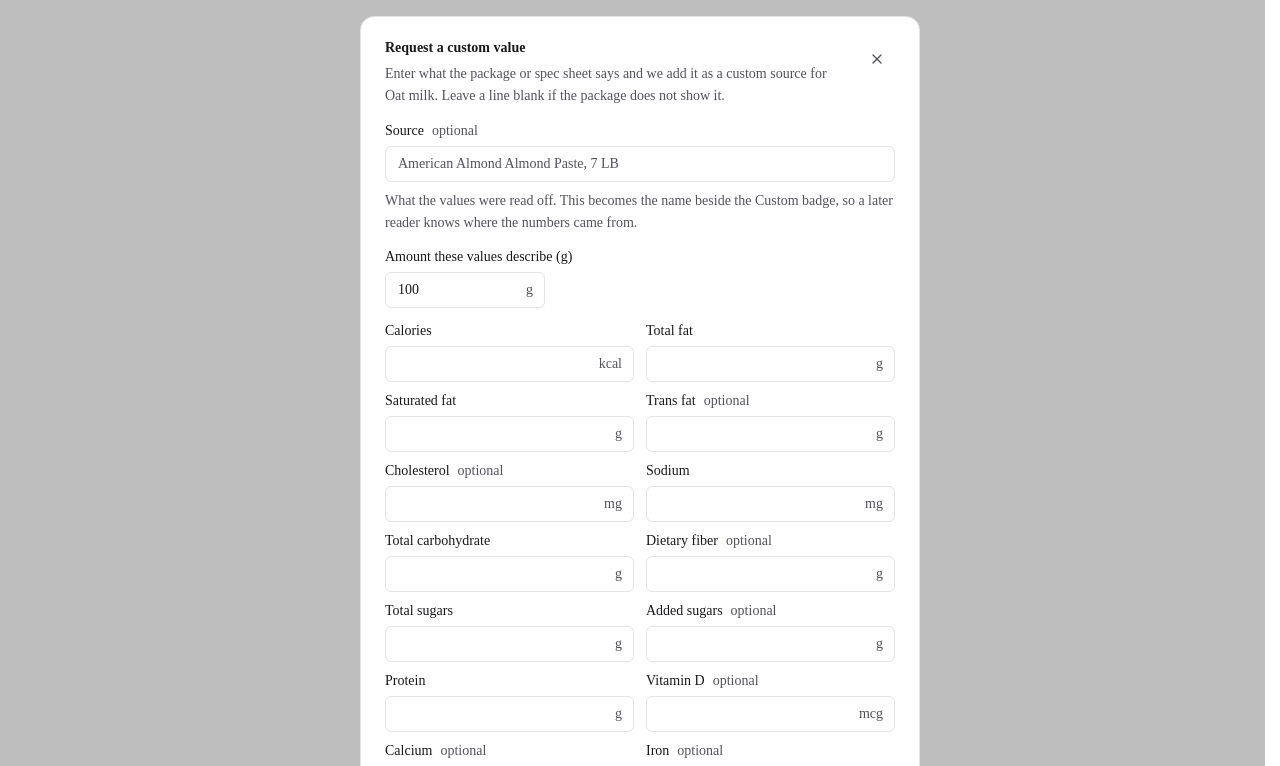
Test: the custom nutrition request dialog › stays open and says why when the request did not land
This screenshot has width=1280, height=766.
Type "120" into the number field labelled "Calories" at (510, 364), box [385,346,634,382]
Type "3" into the number field labelled "Total fat" at (770, 364), box [646,346,895,382]
Type "1" into the number field labelled "Saturated fat" at (510, 434), box [385,416,634,452]
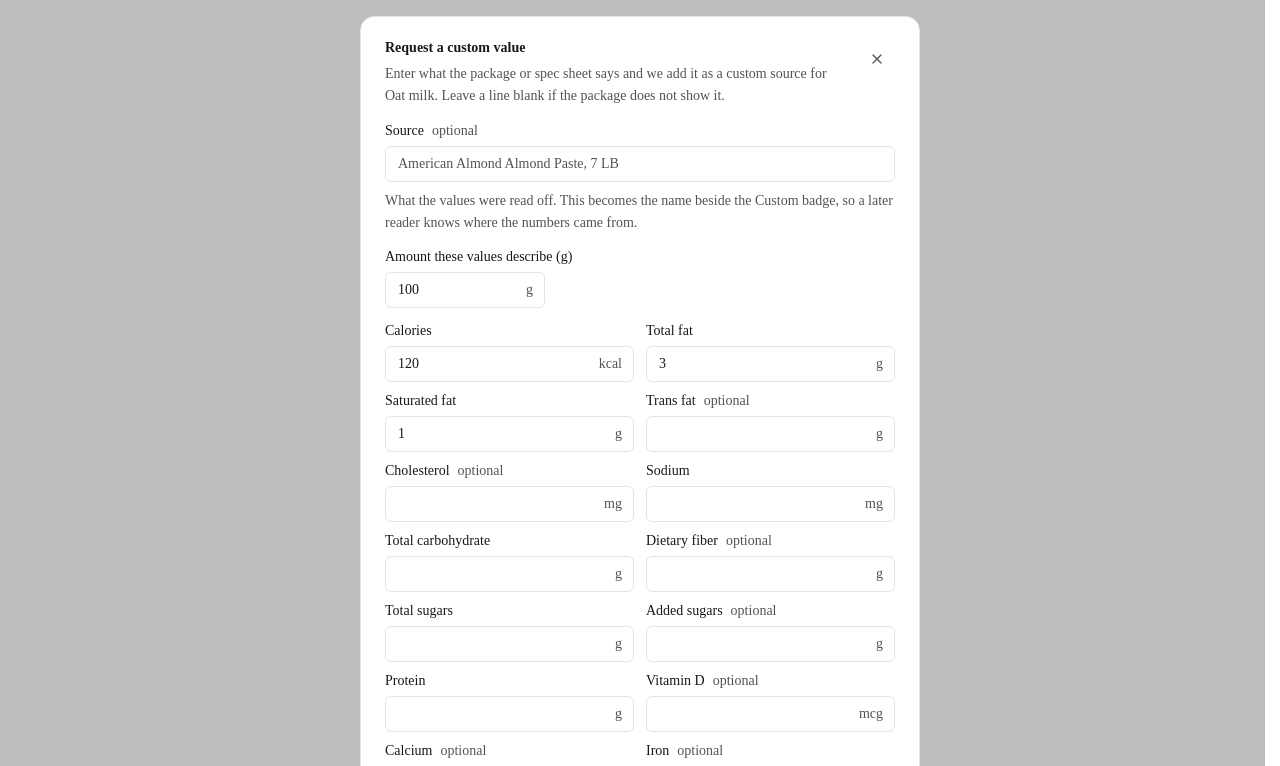
Type "80" into the number field labelled "Sodium" at (770, 504), box [646,486,895,522]
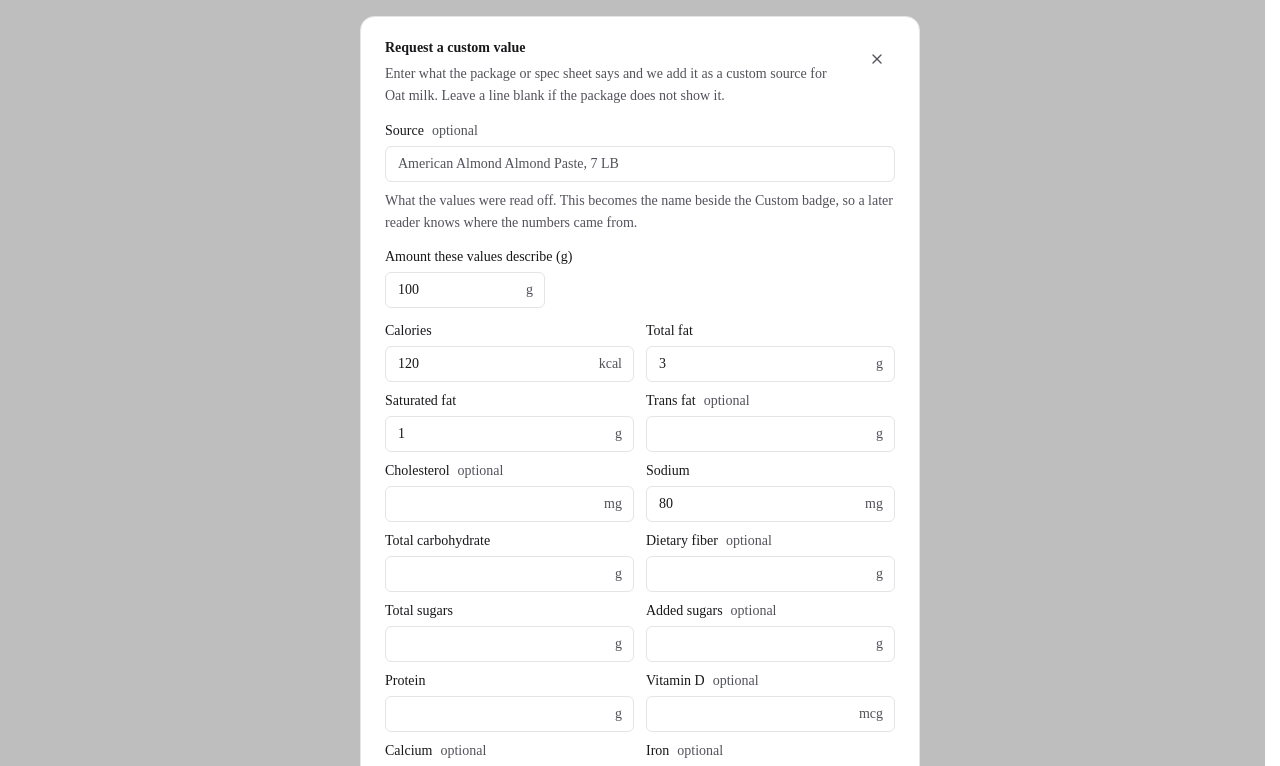
Type "20" into the number field labelled "Total carbohydrate" at (510, 574), box [385,556,634,592]
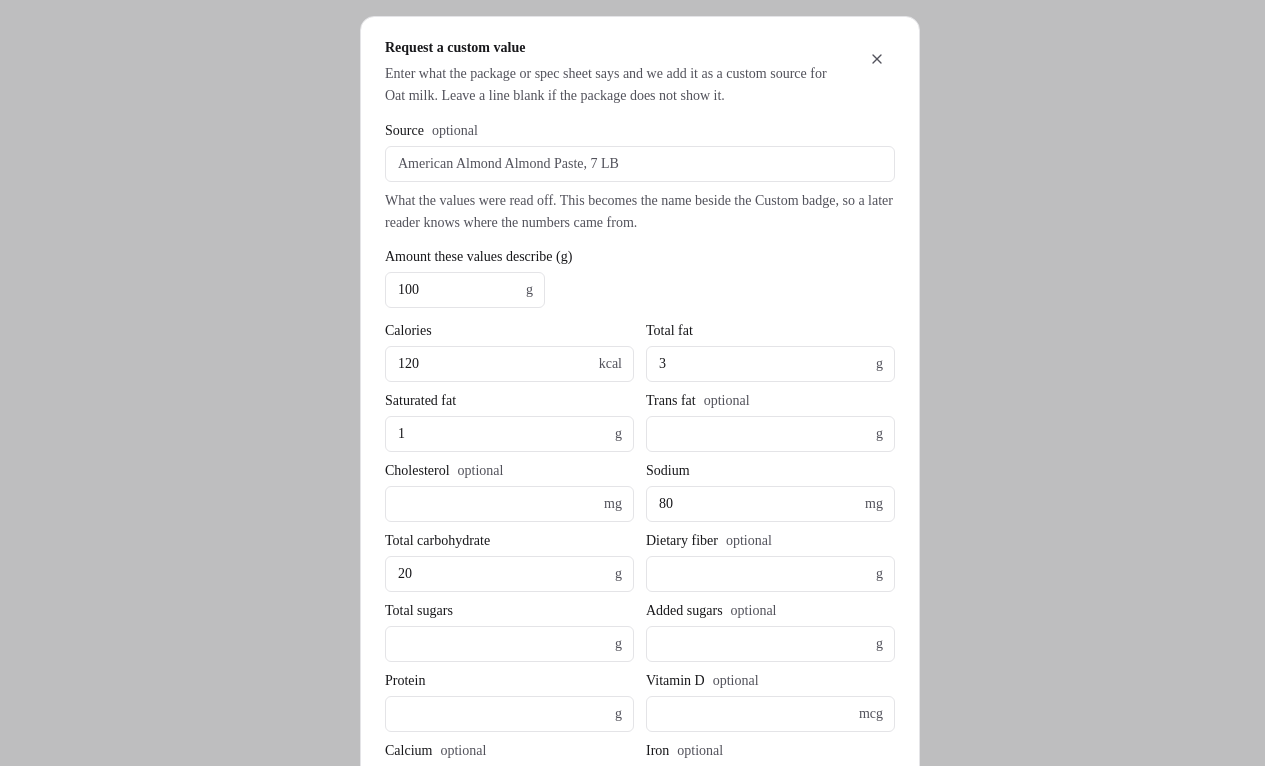
Type "2" into the number field labelled "Total sugars" at (510, 644), box [385,626,634,662]
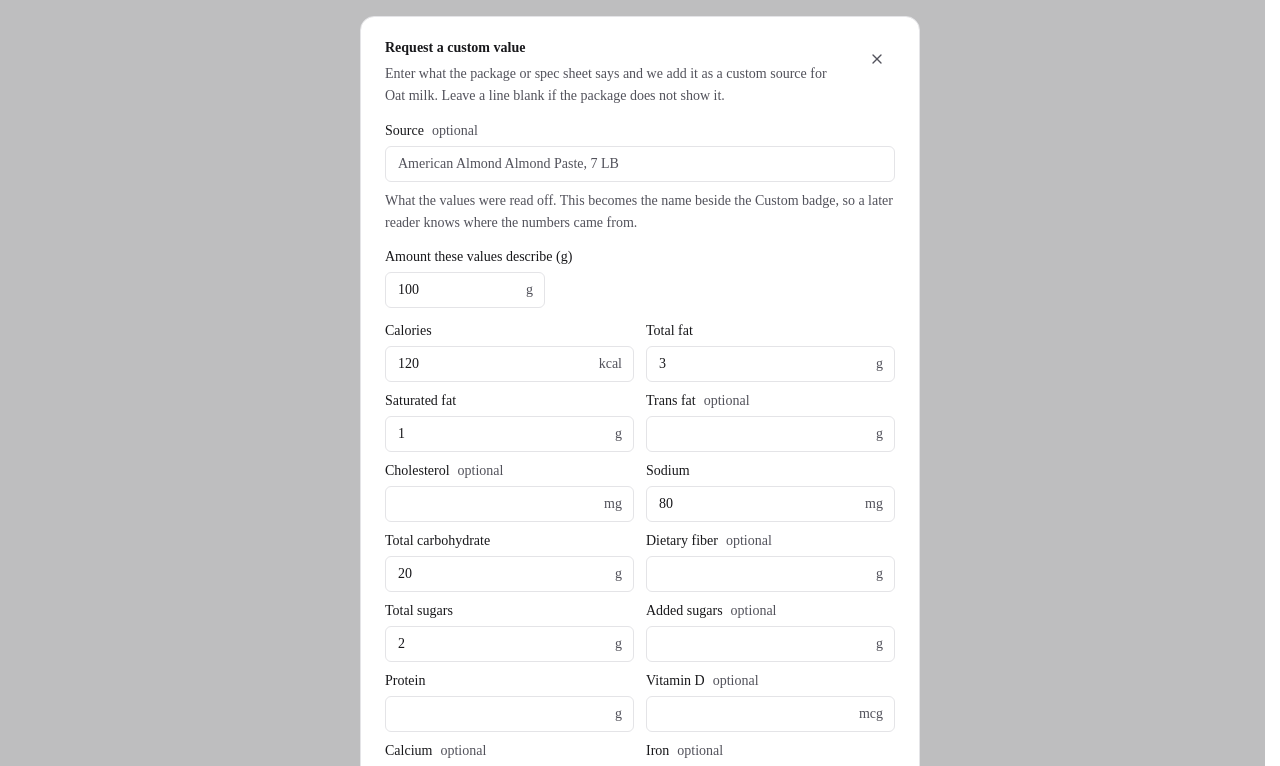
Type "5" into the number field labelled "Protein" at (510, 714), box [385,696,634,732]
(page scrolled)
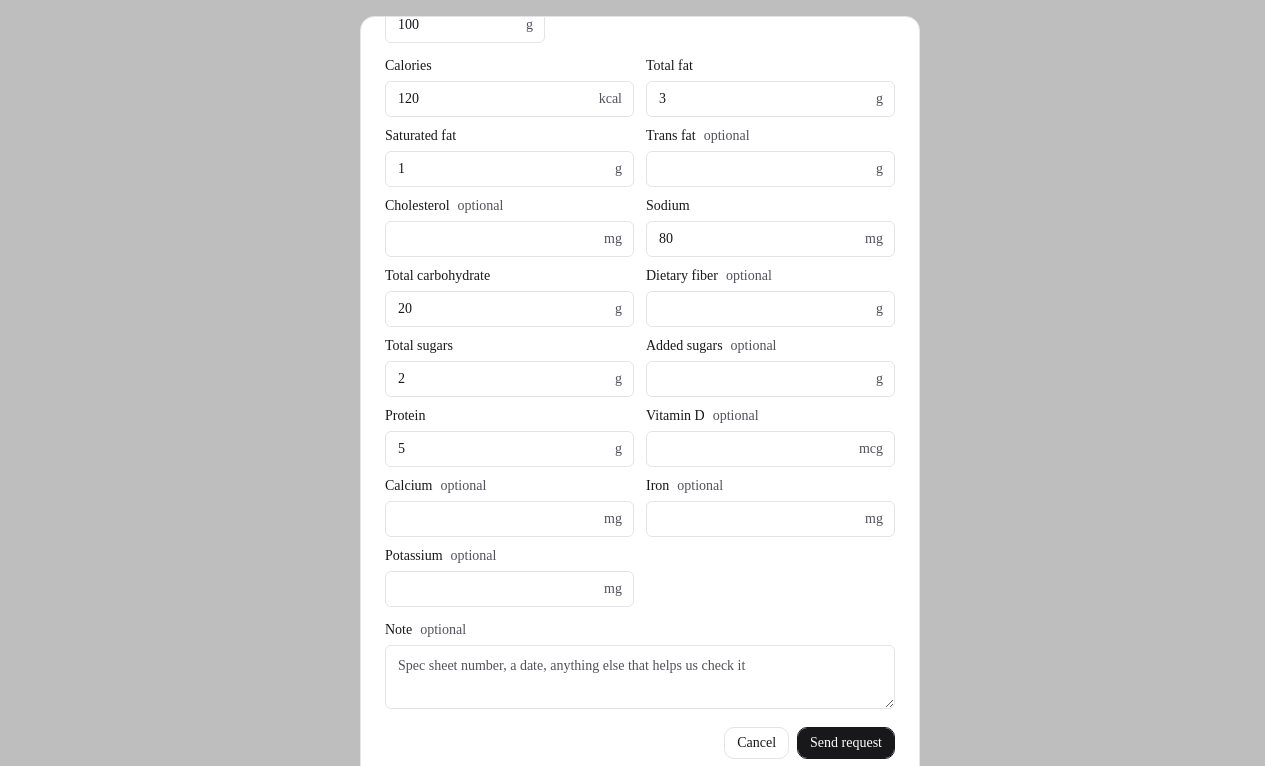
Click the button "Send request" at (846, 743), box [797,727,895,759]
(page scrolled)
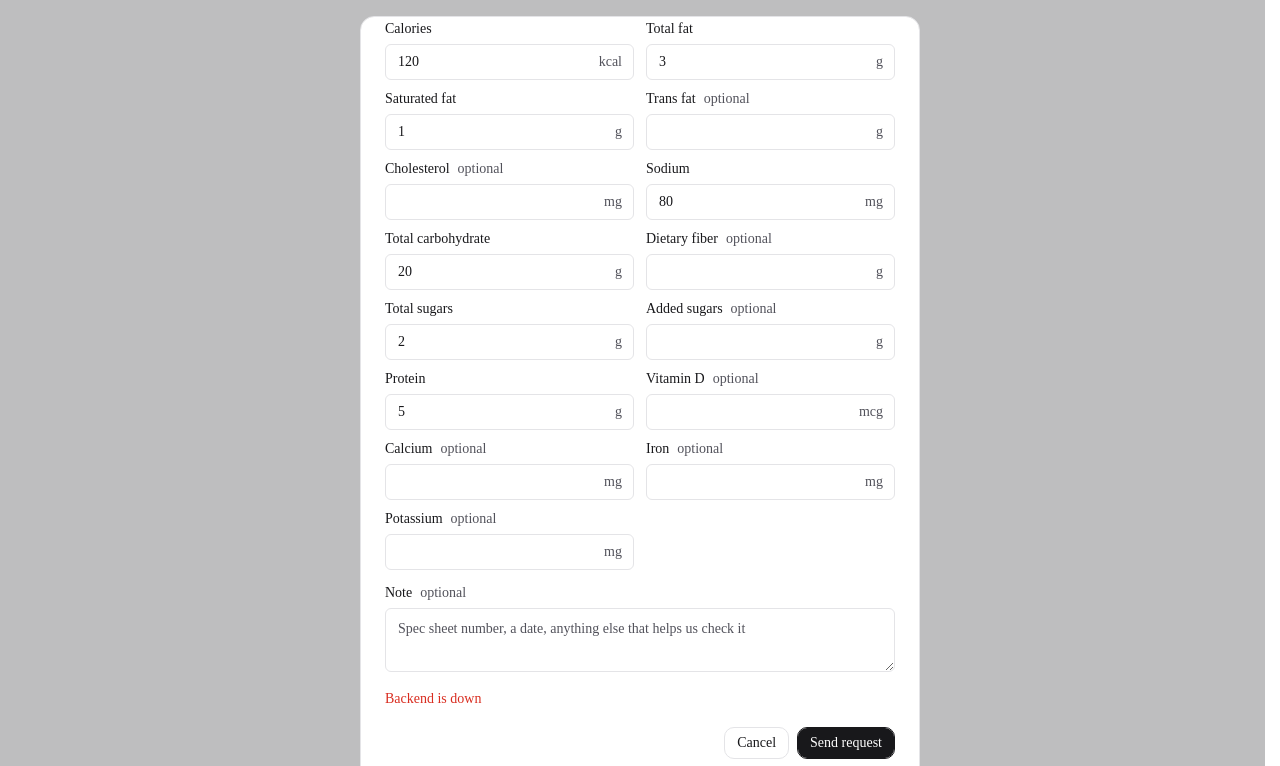
Result: the message reads "Backend is down" at [385,691,481,706]
